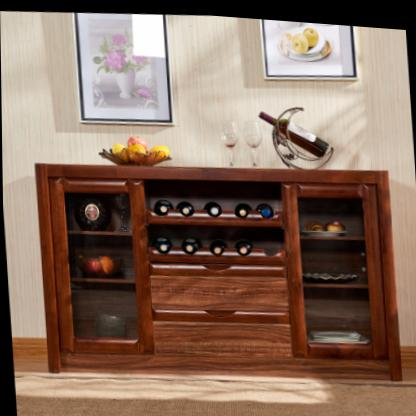Cupboard: (33, 140, 402, 395)
